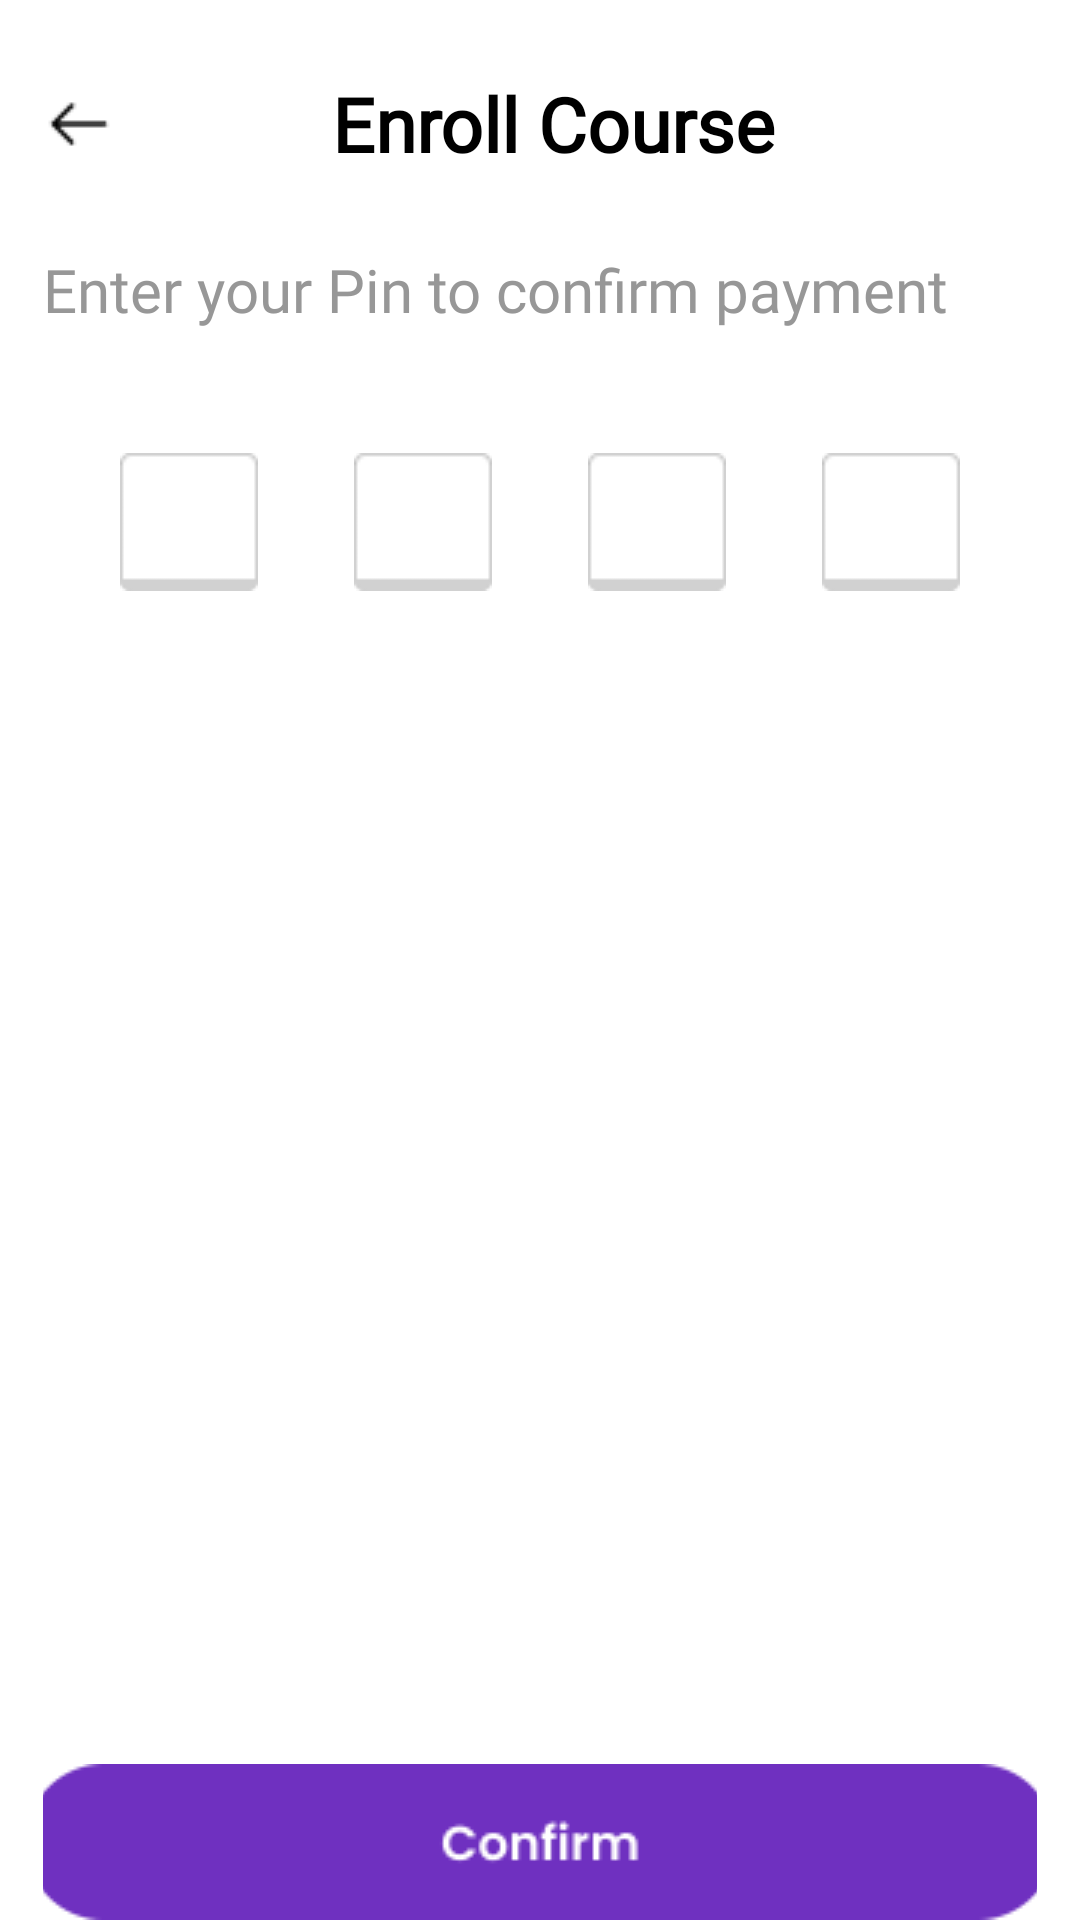

Screen size 1080px x 1920px. Icon name, then its box in pixels as (x1, y1, x2, y2):
back arrow: (50, 102, 108, 146)
